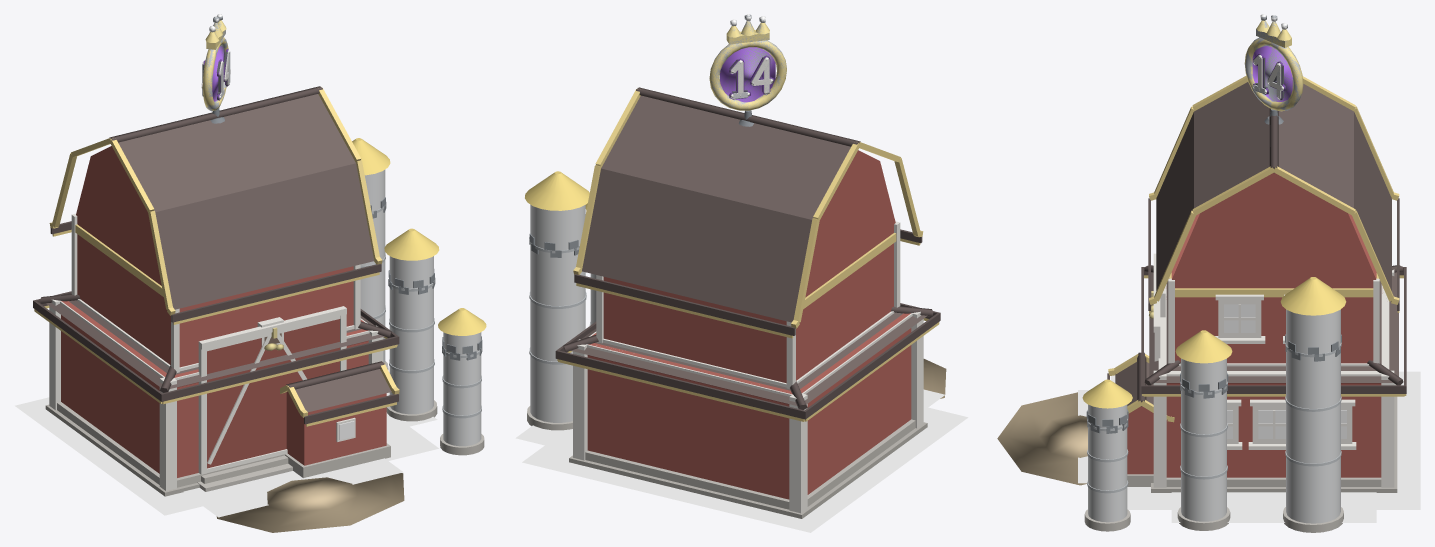
File: barn_14.glb
3 views of the same model, side by side, from view 1: azimuth 30°, elevation 25°; view 2: azimuth 150°, elevation 25°; view 3: azimuth 270°, elevation 25° (orthographic). The views are drawn at different scales.
Parts seen in each view (by area): view 1: body2, barn_14, spin_60_0, body; view 2: body2, barn_14, spin_60_0, body; view 3: body2, barn_14, spin_60_0, body.
Part boxes in pixels (bbox=[...]): body2: bbox=[33, 86, 486, 532]; barn_14: bbox=[15, 392, 438, 517]; spin_60_0: bbox=[201, 14, 230, 110]; body: bbox=[201, 16, 230, 111]; body2: bbox=[525, 87, 946, 518]; barn_14: bbox=[515, 389, 968, 532]; spin_60_0: bbox=[709, 14, 786, 110]; body: bbox=[710, 14, 786, 108]; body2: bbox=[997, 76, 1406, 532]; barn_14: bbox=[1078, 371, 1420, 522]; spin_60_0: bbox=[1244, 14, 1303, 111]; body: bbox=[1245, 15, 1301, 110].
Bounding box in the file's own units: 3.42 × 4.22 × 3.8.
